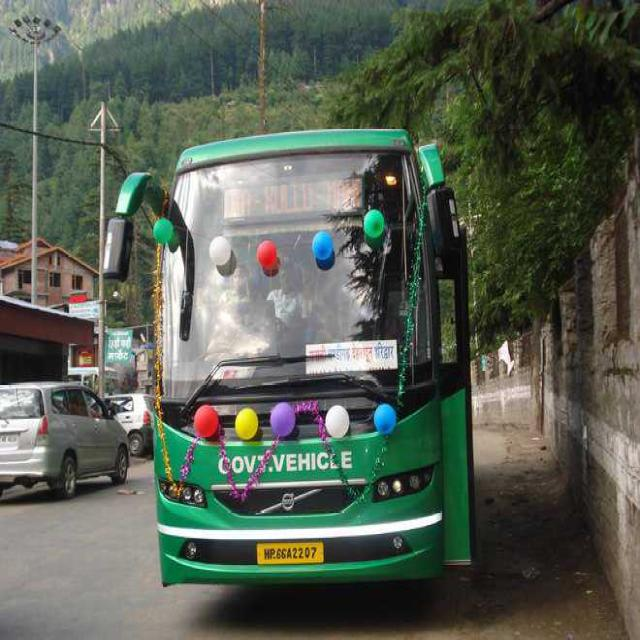bus: (155, 128, 474, 586)
car: (0, 383, 129, 497)
